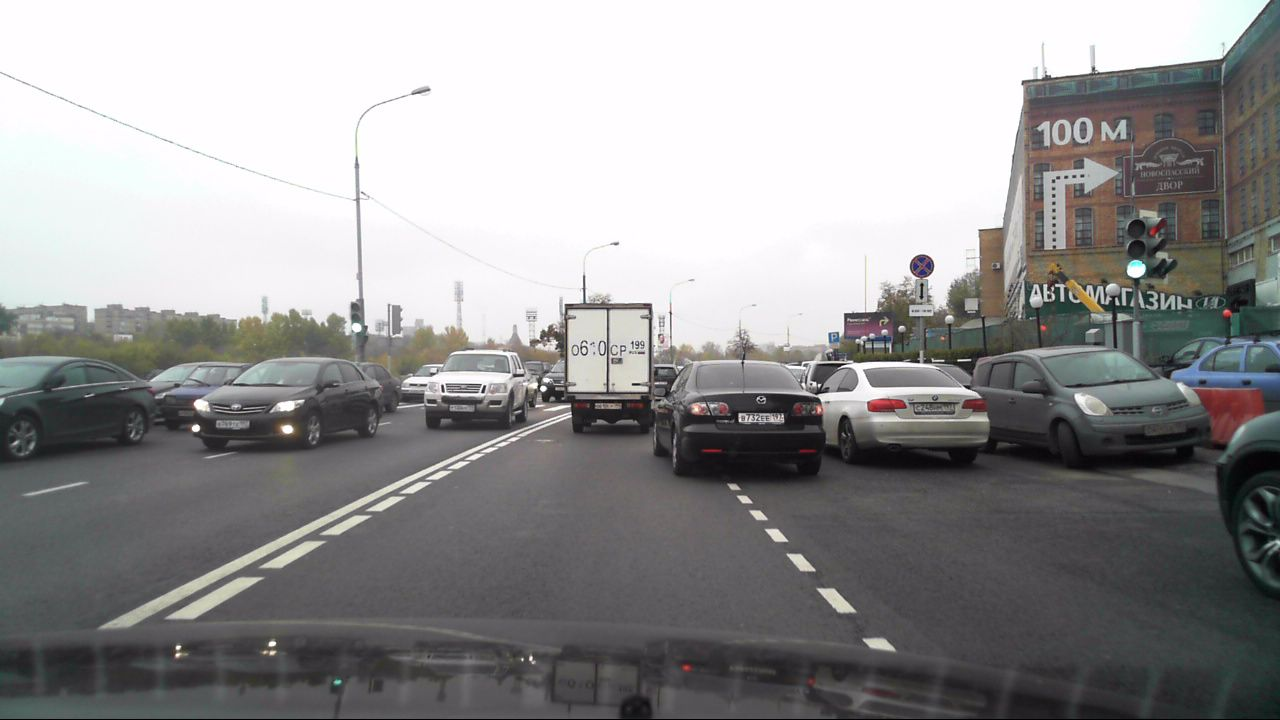No Parking: (909, 252, 935, 278)
